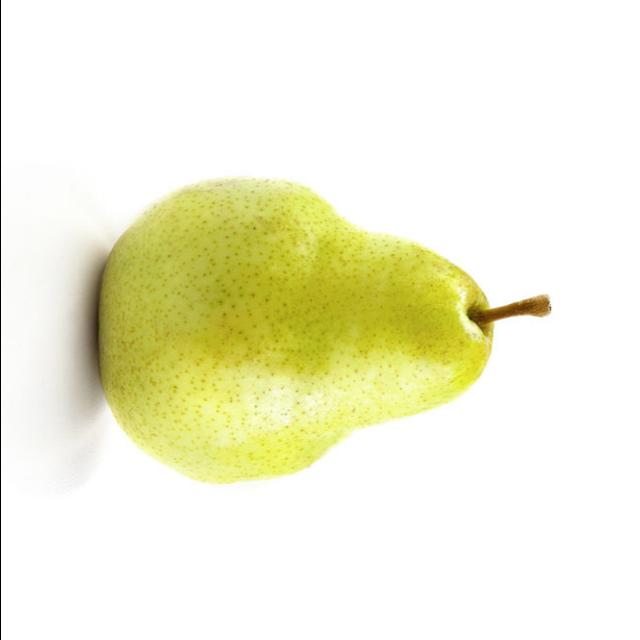pear: (81, 166, 505, 508)
